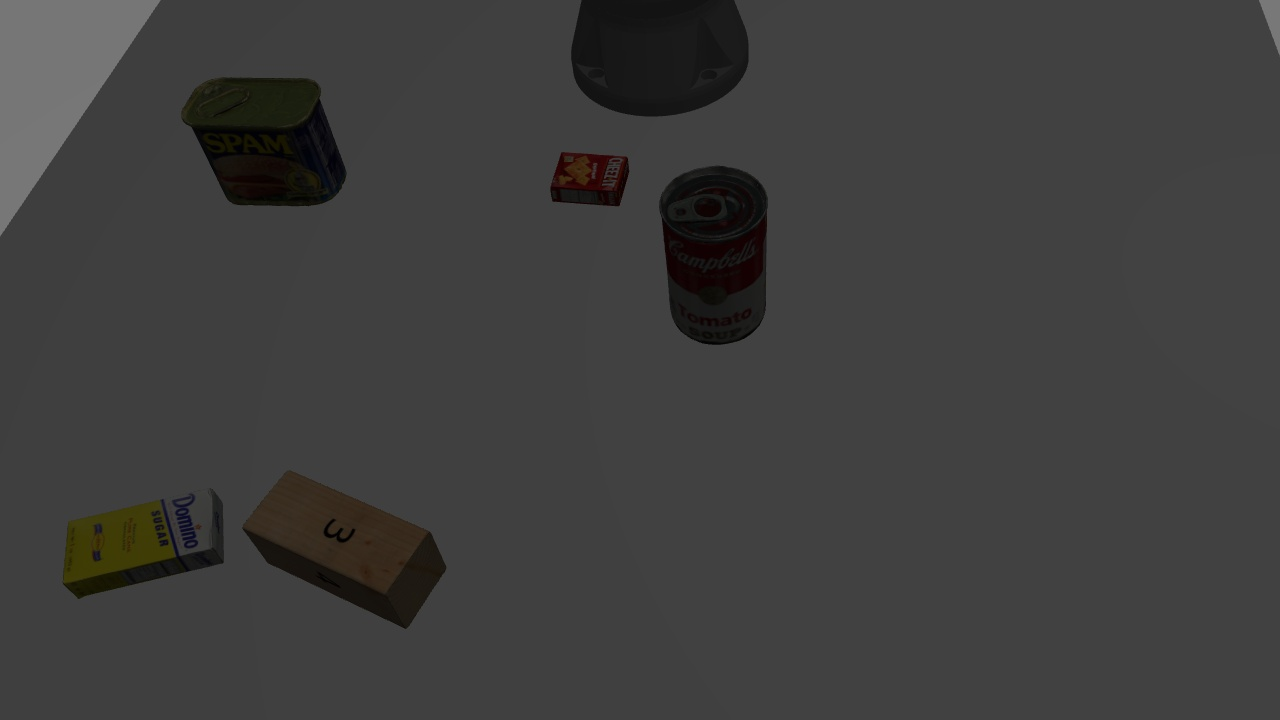cracker_box: (545, 146, 634, 213)
jenga: (53, 483, 232, 600)
potted_meat_can: (179, 66, 351, 213)
sugar_box: (57, 480, 230, 613)
tomato_soup_can: (656, 164, 772, 349)
wood_block: (239, 470, 450, 631)
